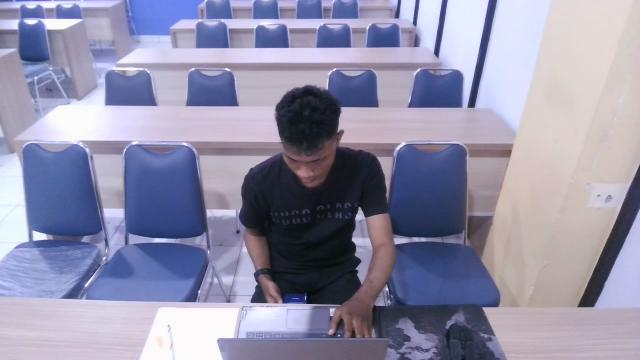Head_Down_Extreme: (226, 58, 407, 360)
Mobile_Phone: (280, 287, 309, 307)
